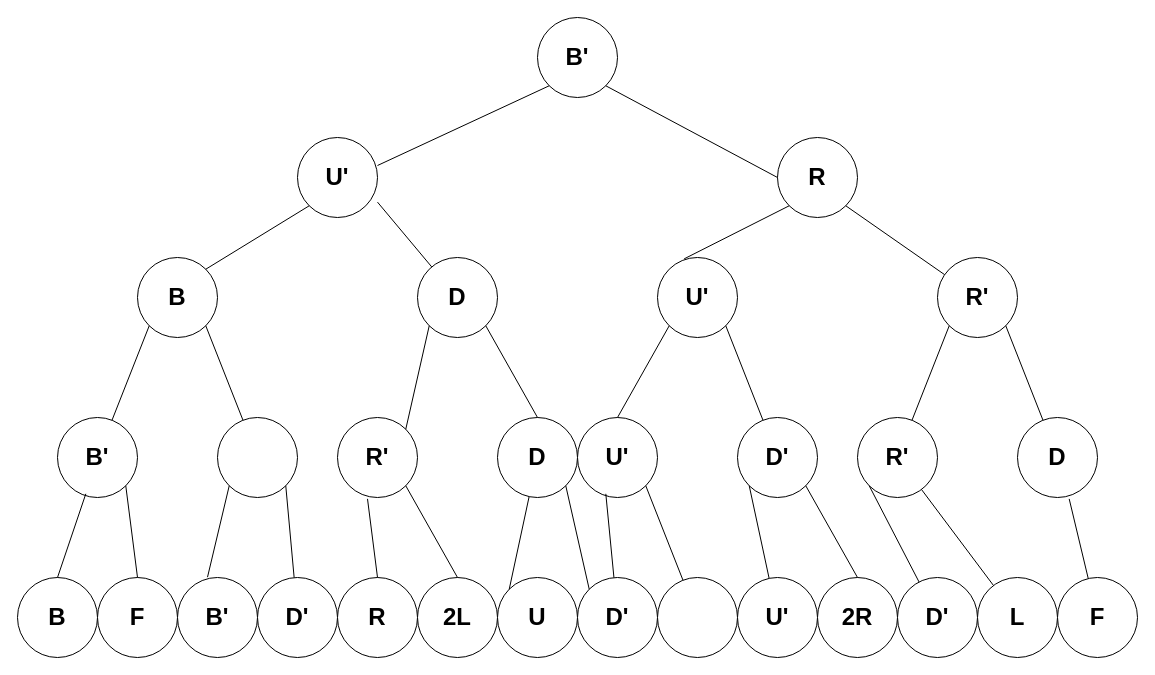
The diagram is 1155 pixels wide and 675 high, and some of its shapes have lost their labels. Each missing label, with the box of its shape:
F': (216, 416, 298, 498)
L': (656, 576, 738, 658)
